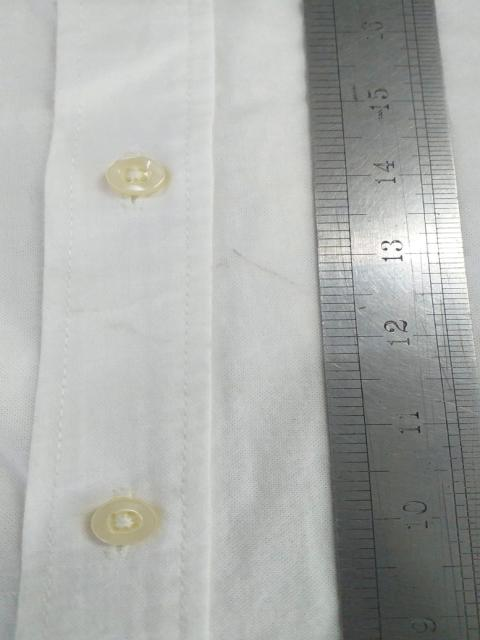Dirty_mark: (222, 246, 300, 295)
